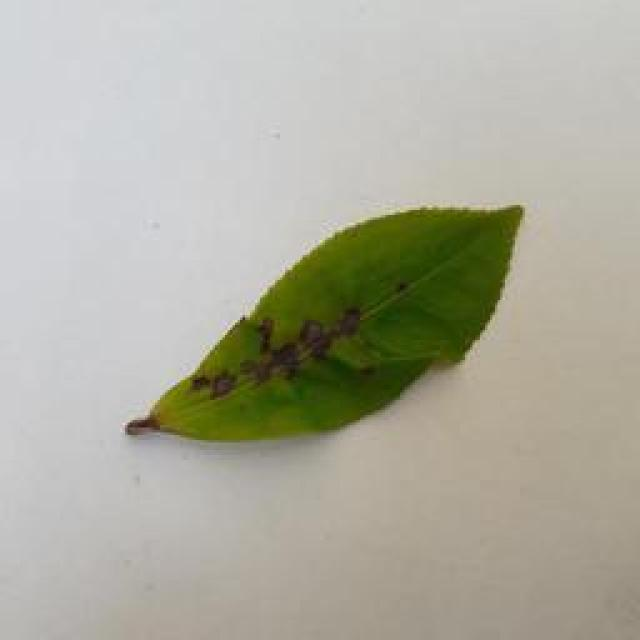Helopeltis: (131, 189, 523, 461)
